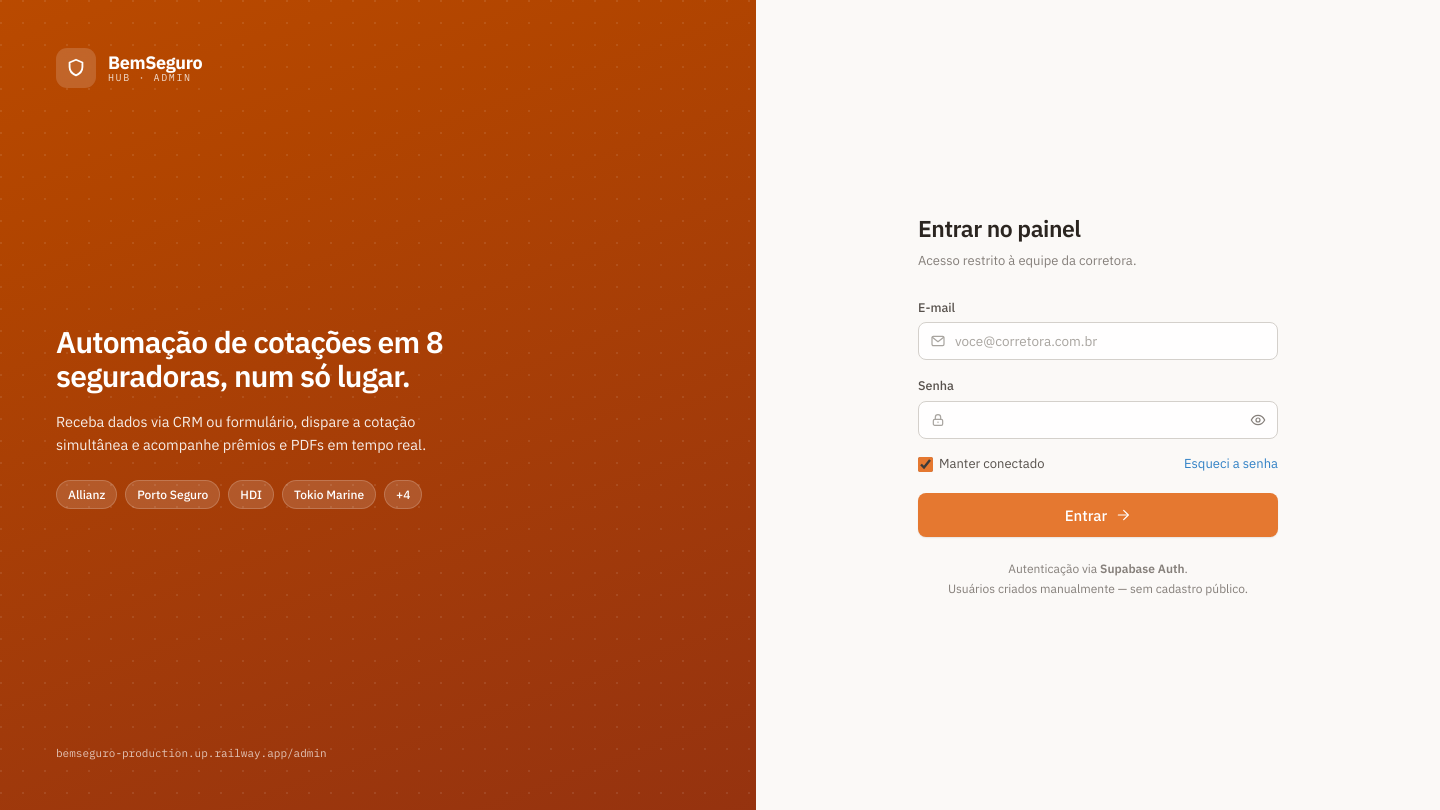
Test: Login › mostra erro quando as credenciais sao invalidas
The image size is (1440, 810).
Type "errado@teste.com" into the field labelled "E-mail".
click(1098, 342); type("errado@teste.com")  # box left=918, top=322, right=1278, bottom=360
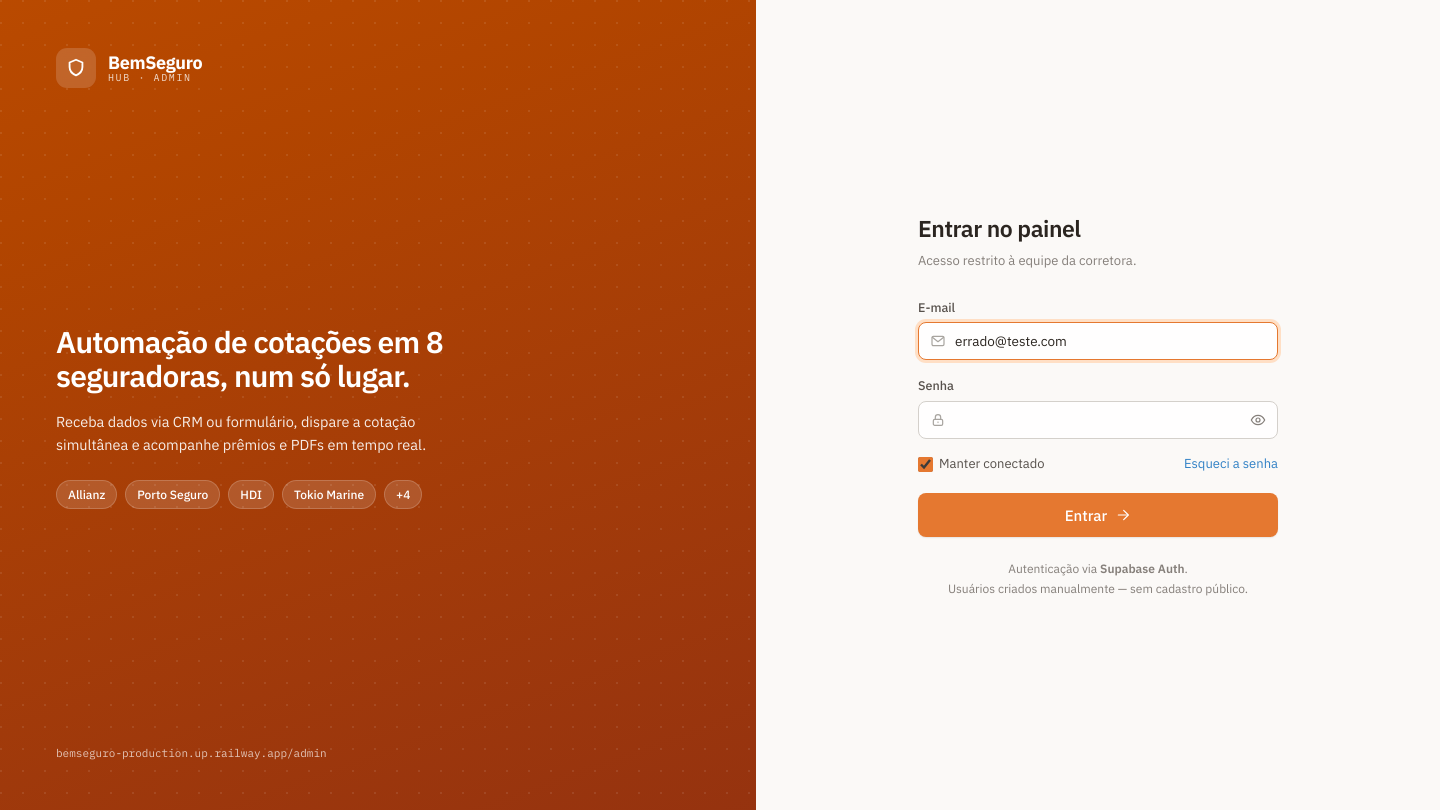
Type "senhaerrada" into the password field labelled "Senha".
click(1098, 420); type("senhaerrada")  # box left=918, top=401, right=1278, bottom=439
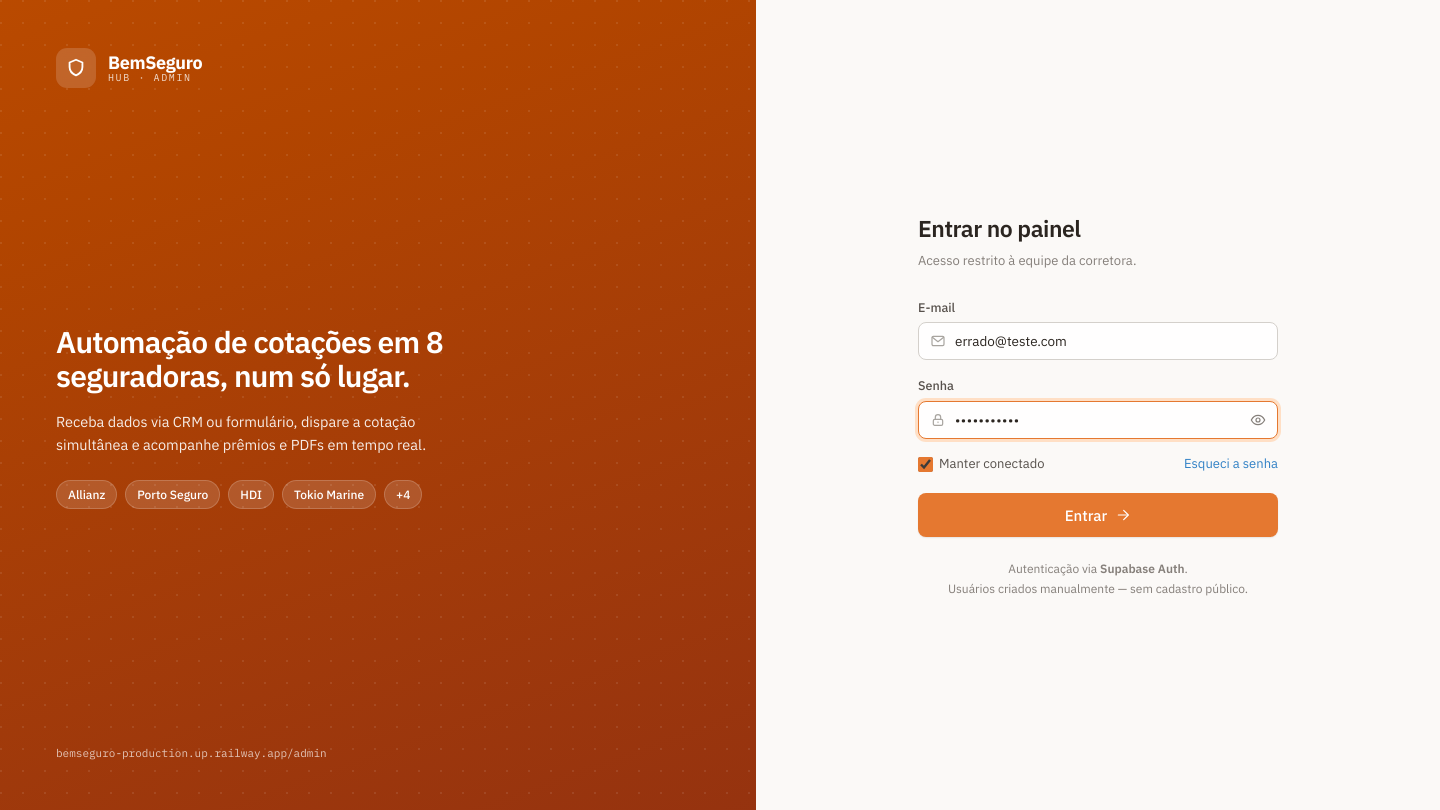
Click the button "Entrar".
click(1098, 516)  # box left=918, top=494, right=1278, bottom=538
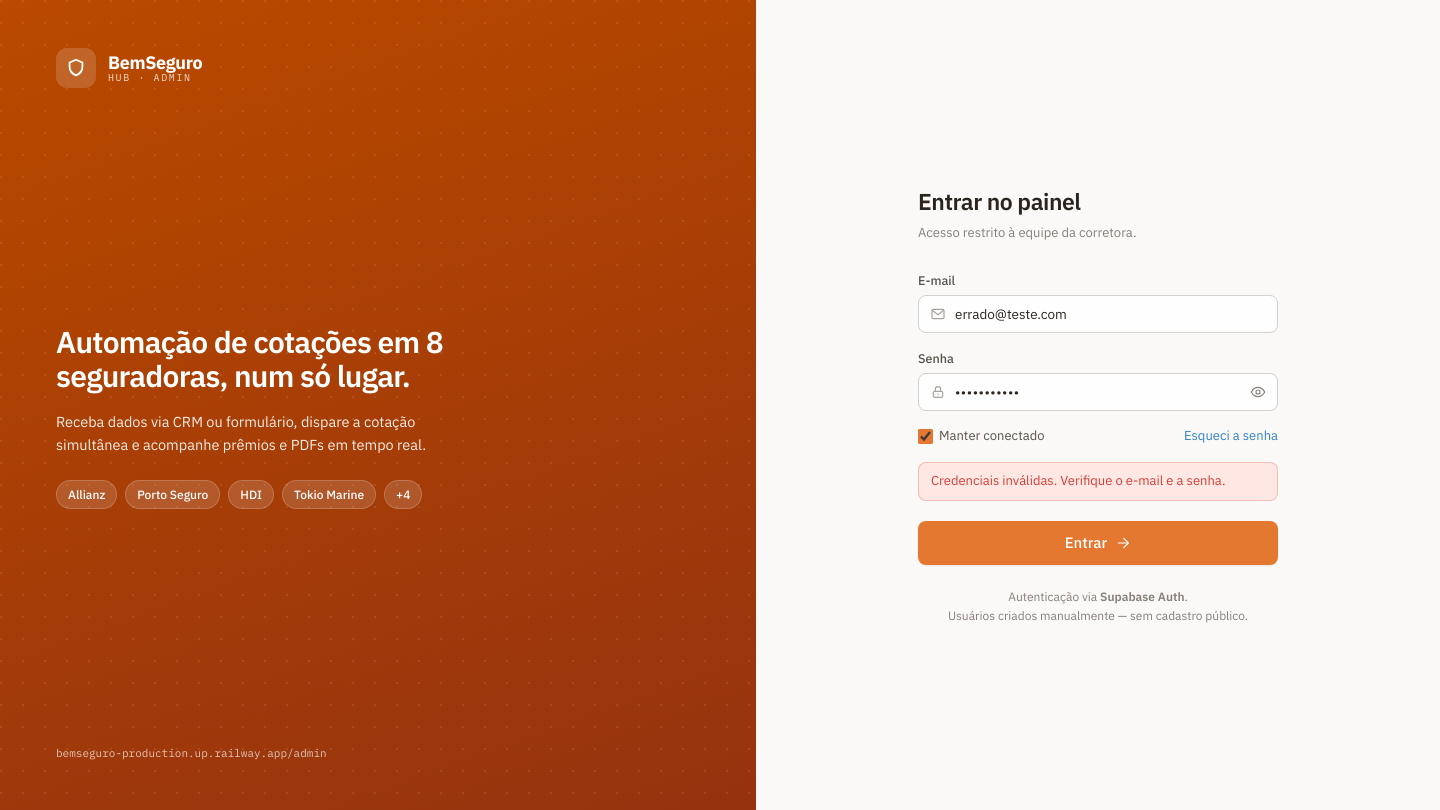
Now the message shows "Credenciais inválidas", box left=931, top=472, right=1225, bottom=489
